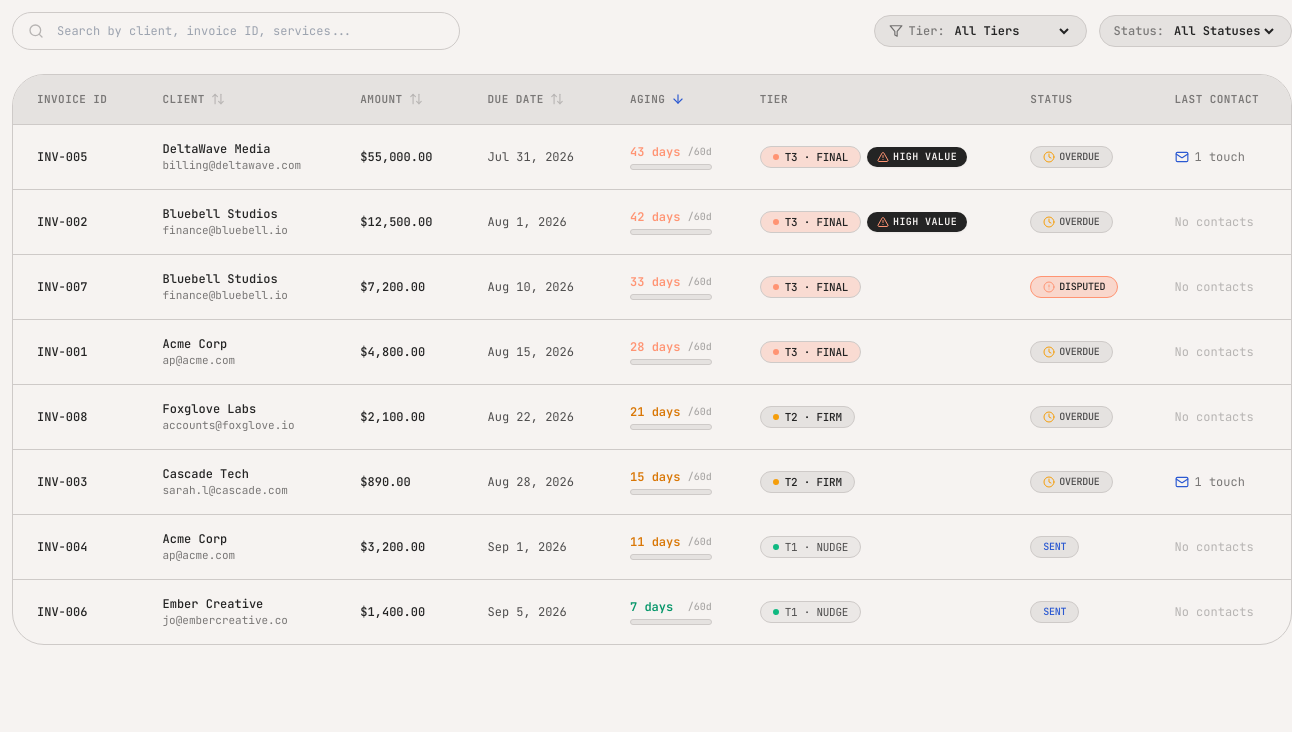
Scenario: FRONT-02: Dashboard Components & Page › InvoiceTable Component › filters invoices client-side by Status dropdown
Step 1. Select "Disputed" in the dropdown with test id "status-filter-select" → (1224, 31), box [1170,22,1277,40]
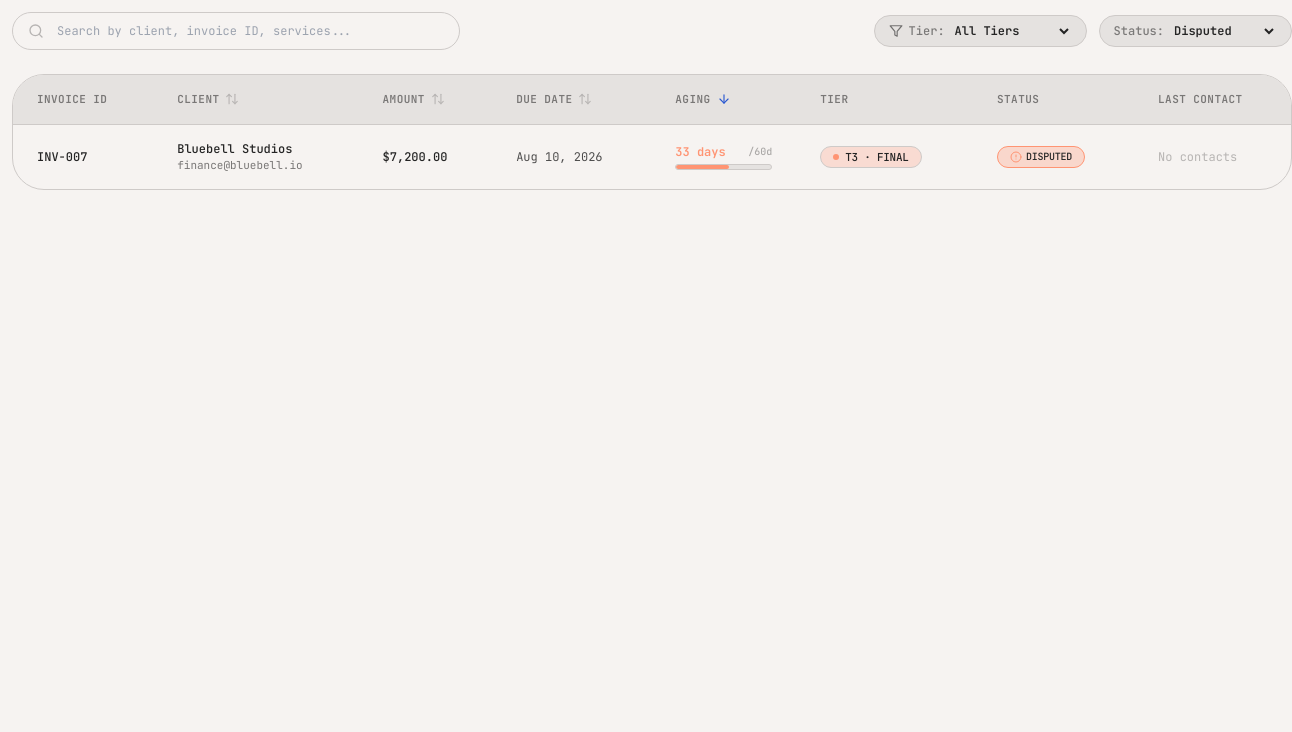
Check: the row with test id "invoice-row-INV-007" is shown, box [13,124,1291,188]
Check: the row with test id "invoice-row-INV-005" is gone
